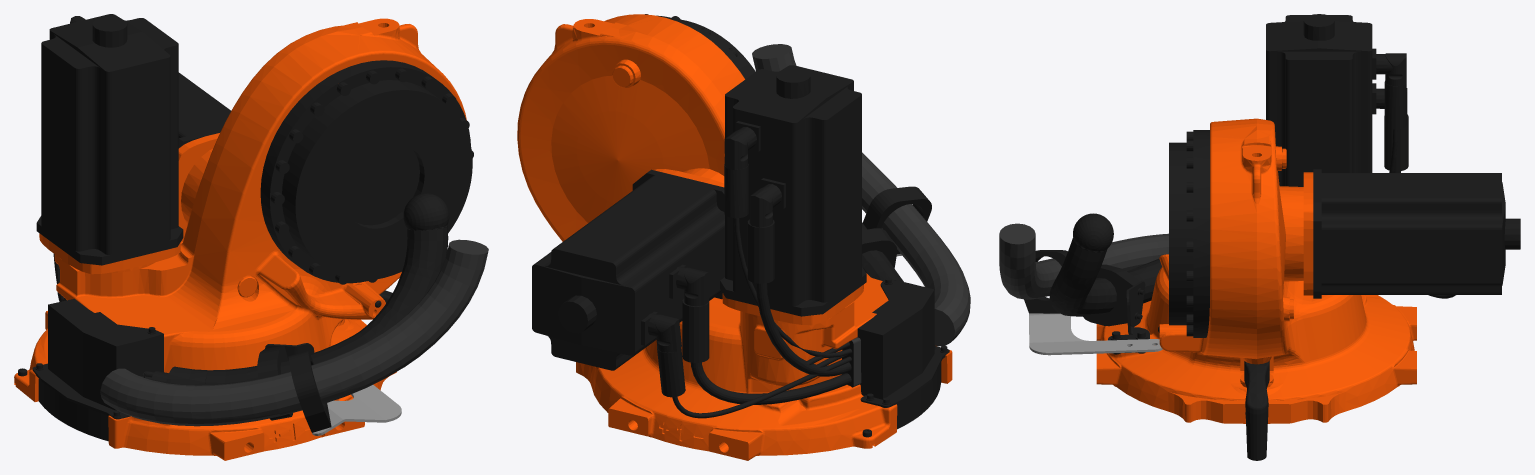
3 views of the same model, side by side, from view 1: azimuth 30°, elevation 25°; view 2: azimuth 150°, elevation 25°; view 3: azimuth 270°, elevation 25° (orthographic). The views are drawn at different scales.
Parts seen in each view (by area): view 1: link_1; view 2: link_1; view 3: link_1.
Part boxes in pixels (x1=…): link_1: x1=14, y1=14, x2=488, y2=460; link_1: x1=517, y1=14, x2=970, y2=460; link_1: x1=999, y1=14, x2=1520, y2=460.
Bounding box in the file's own units: 0.4839 × 0.6221 × 0.4337.
